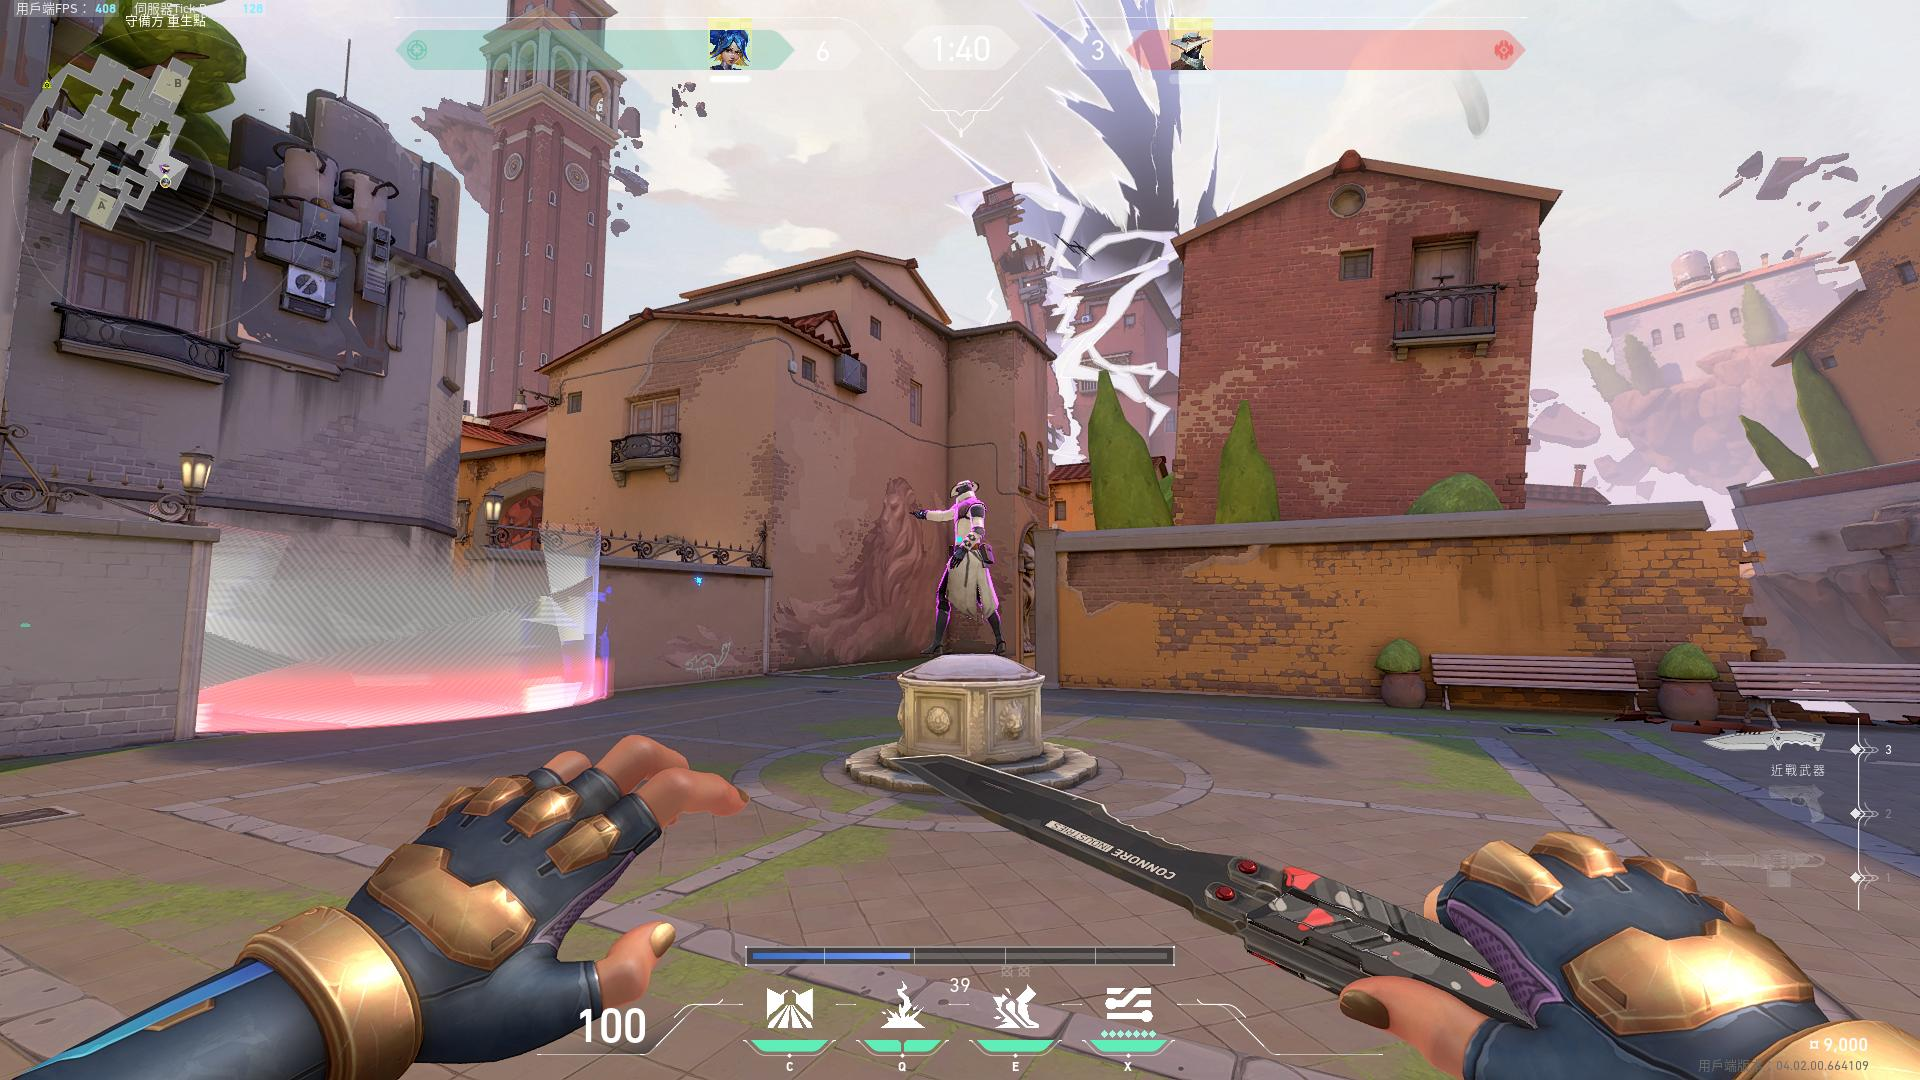enemyBody: (957, 514, 982, 554)
enemyHead: (957, 480, 976, 501)
